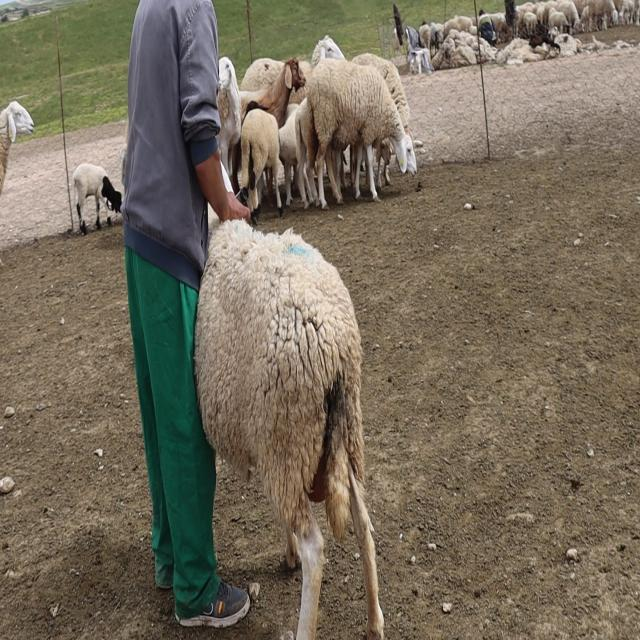Score_2: (194, 218, 384, 639)
